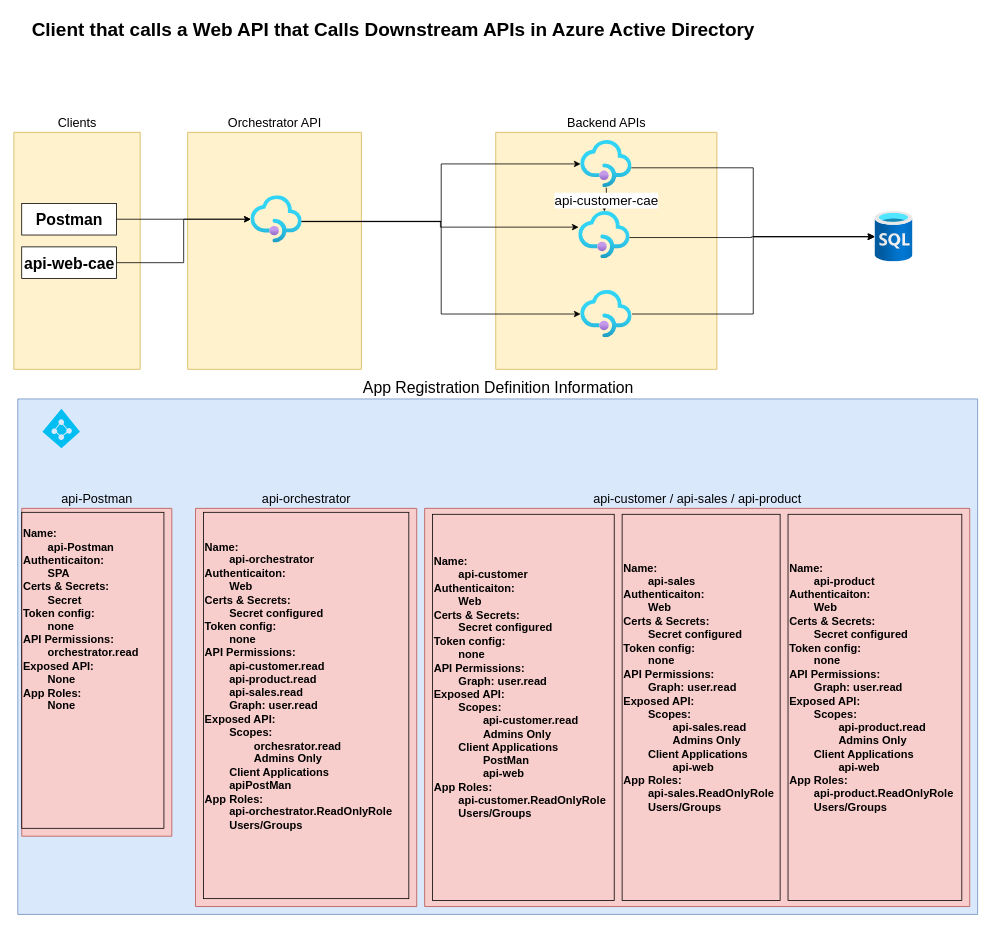
Image size: 991x928. Some labels were removed from this diagram. The shapes that lost their labels are listed below. From the top down, each one's centre as x and y in pixels, then its label:
the point at 276,219: api-orchestrator-cae
the point at 604,234: api-sales-cae
the point at 893,236: AdventureWorks Database
the point at 606,313: api-products-cae
the point at 61,428: Azure AD
